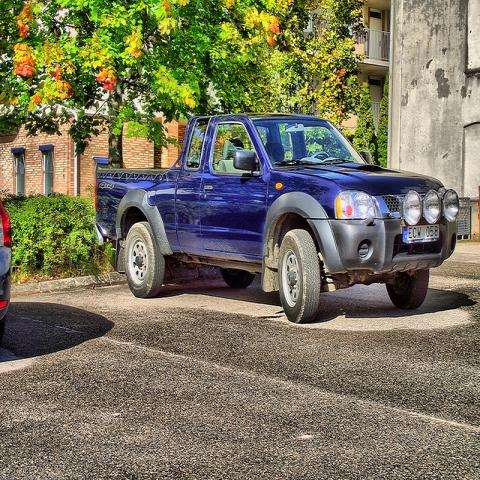car: (0, 197, 14, 341)
truck: (93, 114, 458, 318)
